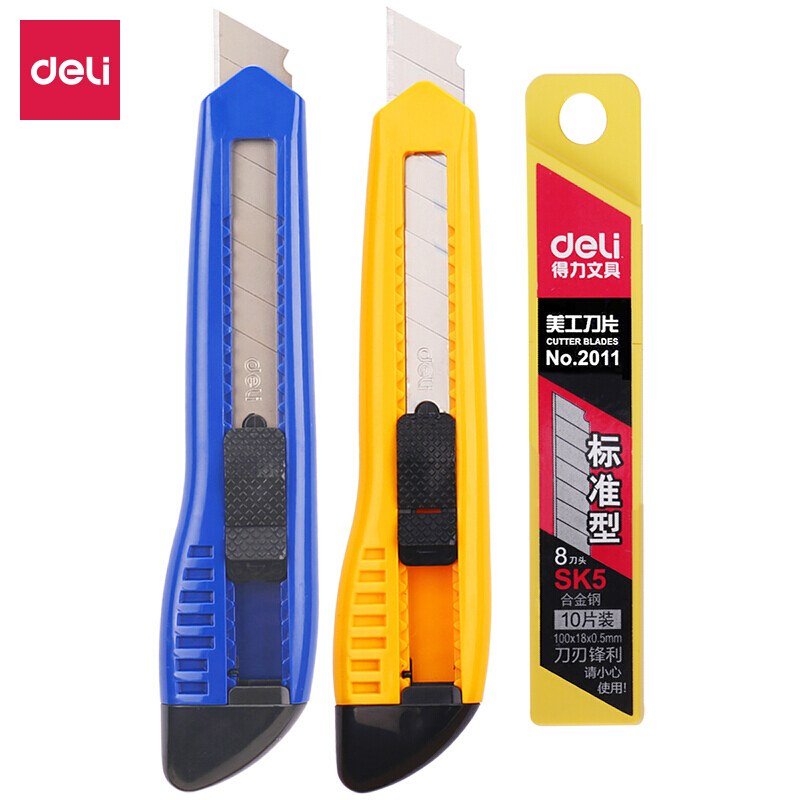cutter: (330, 4, 495, 795), (157, 8, 321, 791), (518, 72, 647, 727)
